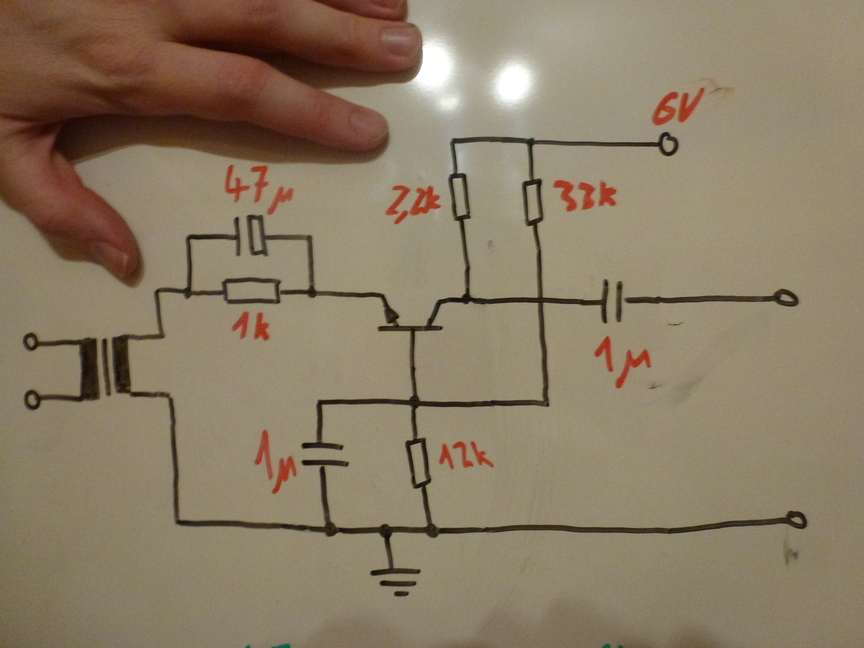capacitor.polarized: (228, 213, 274, 260)
capacitor.unpolarized: (298, 436, 353, 473), (595, 276, 634, 327)
crossover: (530, 292, 551, 309)
gnd: (365, 562, 427, 605)
junction: (318, 518, 341, 541), (420, 522, 443, 543), (403, 392, 427, 412), (375, 520, 395, 542), (162, 385, 181, 406), (178, 283, 197, 303), (167, 514, 188, 532), (301, 284, 320, 303), (299, 229, 319, 247), (521, 133, 539, 151), (537, 394, 554, 412), (152, 328, 171, 344), (457, 291, 475, 307), (181, 230, 197, 247), (150, 284, 165, 299), (445, 134, 460, 149), (312, 396, 327, 411)
resistor: (217, 274, 288, 309), (397, 434, 435, 493), (443, 167, 479, 226), (515, 174, 549, 231)
terminal: (651, 130, 686, 160), (769, 284, 803, 314), (780, 506, 811, 537), (19, 386, 45, 414), (18, 330, 41, 355)
text: (219, 161, 297, 217), (589, 331, 658, 393), (246, 427, 300, 495), (550, 175, 624, 215), (382, 182, 442, 227), (646, 86, 706, 130), (435, 439, 498, 474), (228, 309, 274, 347)
transformer: (73, 331, 137, 406)
transistor: (369, 285, 450, 344)
